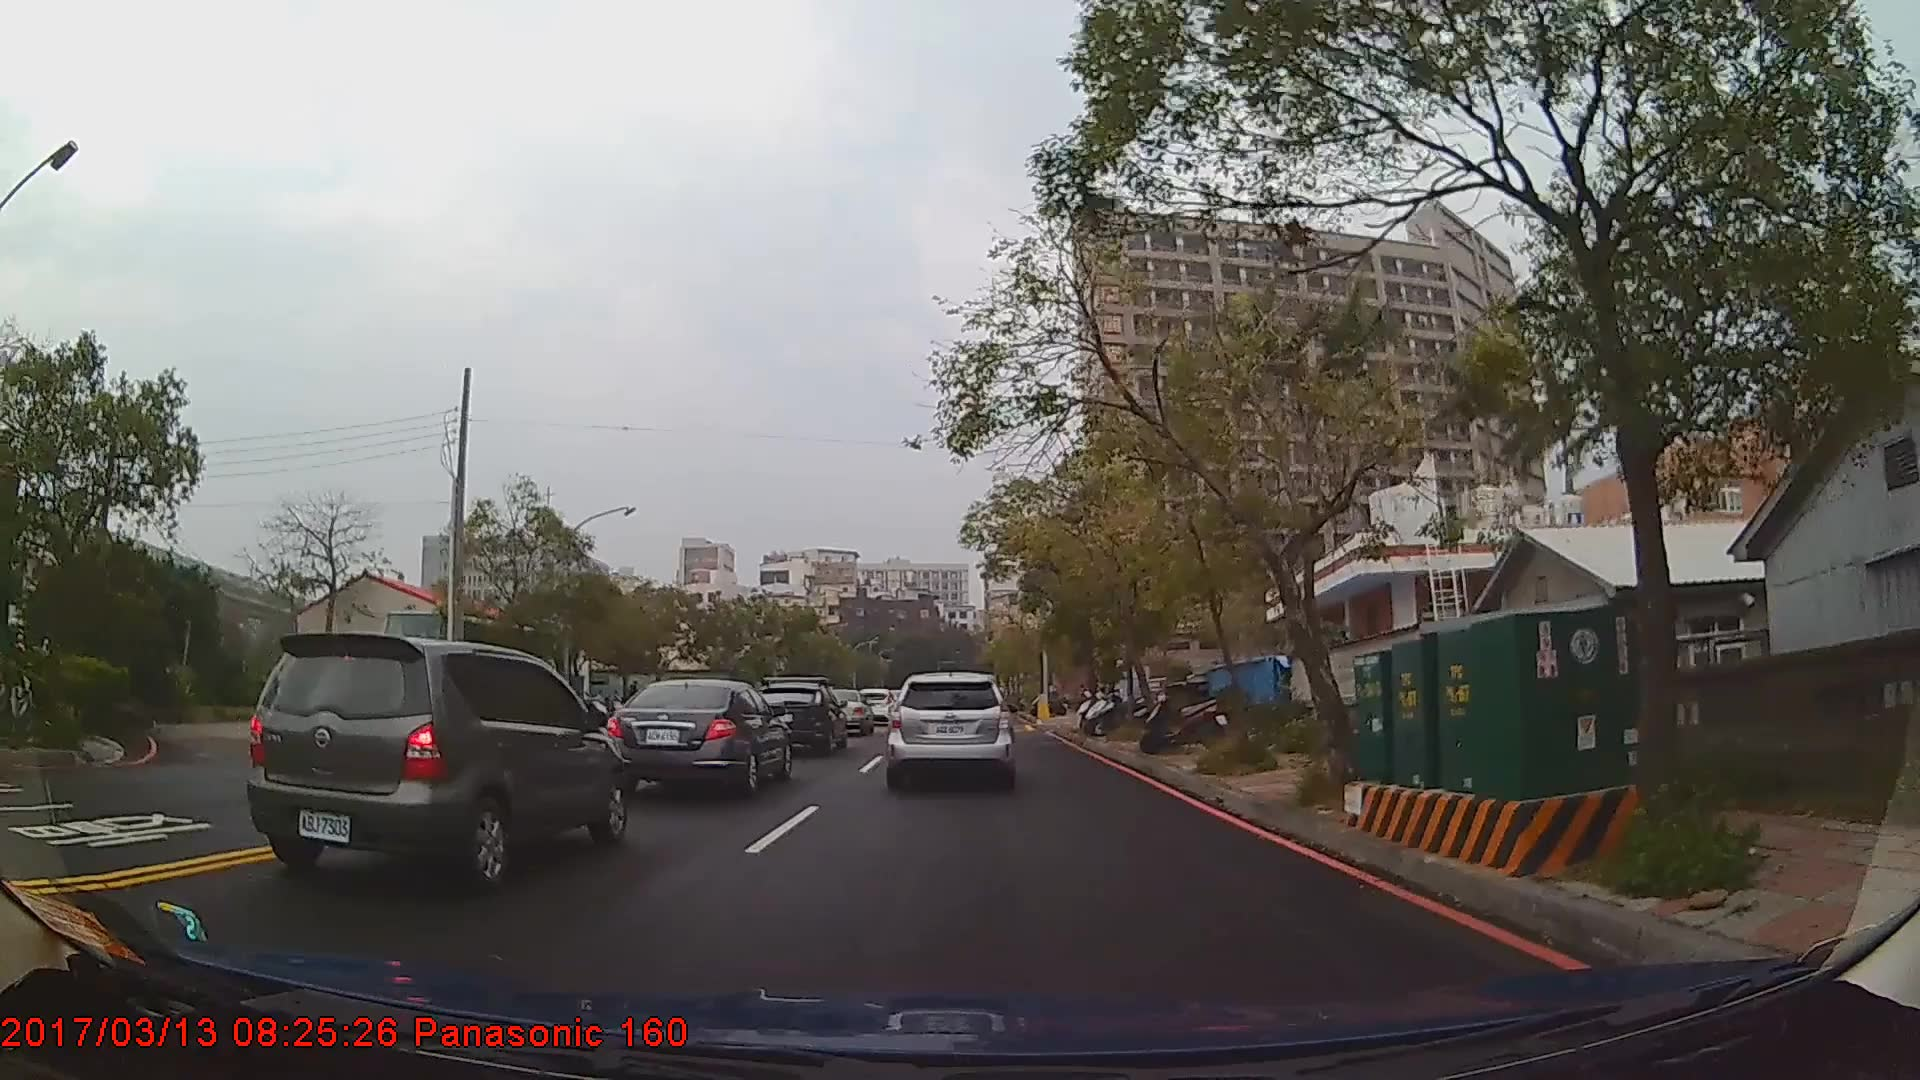vehicle: (244, 633, 626, 884), (603, 675, 793, 796), (885, 669, 1015, 785), (748, 680, 847, 753), (816, 686, 872, 735)
